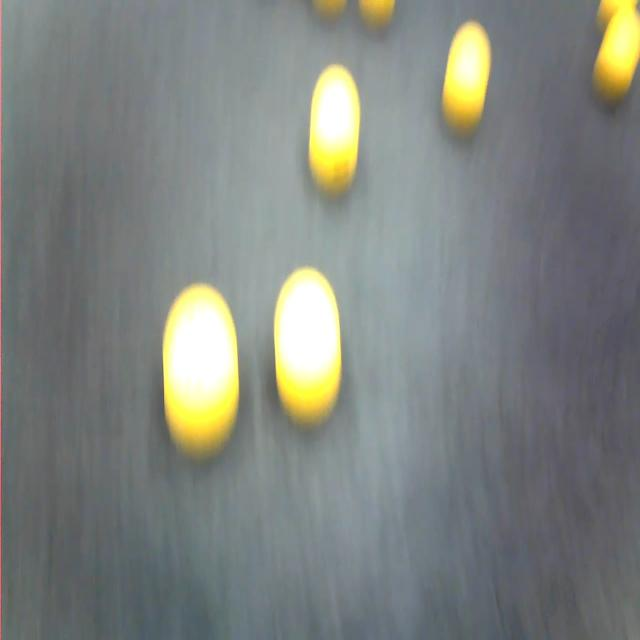fuel: (163, 284, 239, 457), (274, 268, 341, 425), (309, 65, 360, 194), (442, 22, 491, 134), (593, 7, 639, 103), (597, 0, 637, 31)
